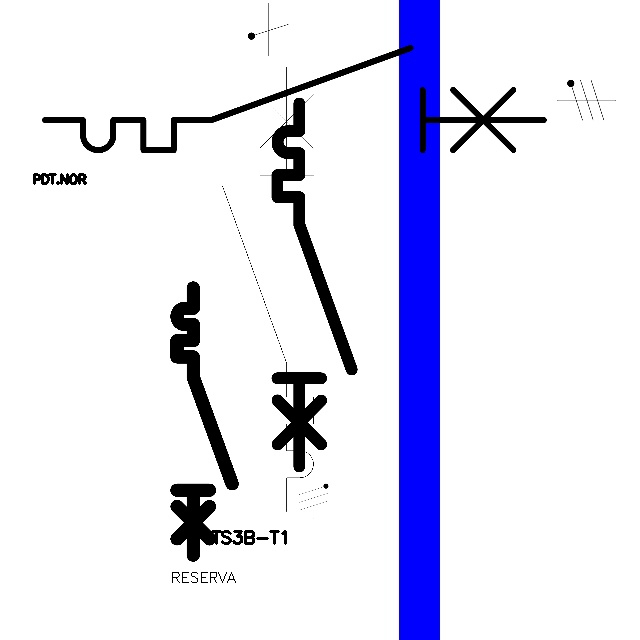interruptor_termomagnetico: (32, 35, 556, 163), (211, 55, 325, 523), (268, 94, 361, 475), (170, 281, 239, 562)
